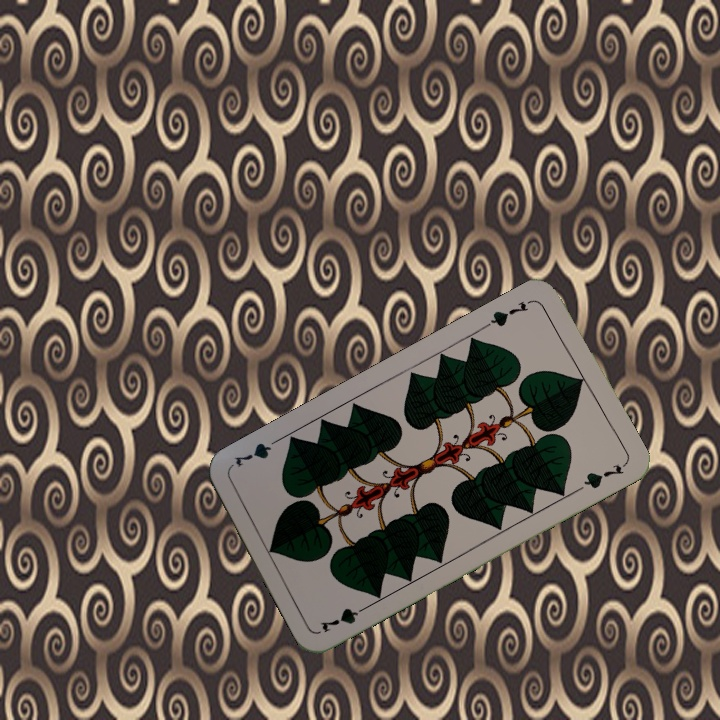G7: (316, 600, 373, 636), (481, 295, 536, 330)
